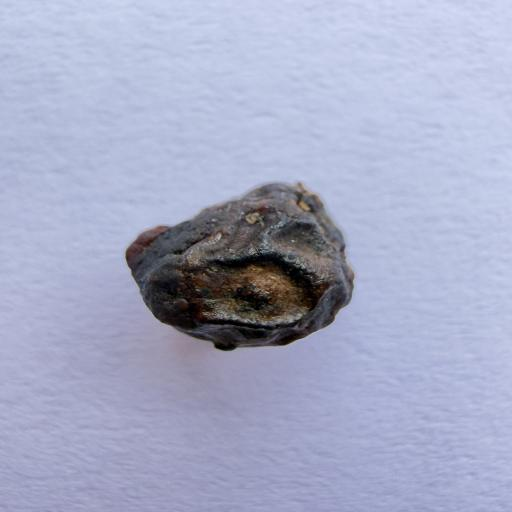Black_pepper: (46, 130, 438, 388)
